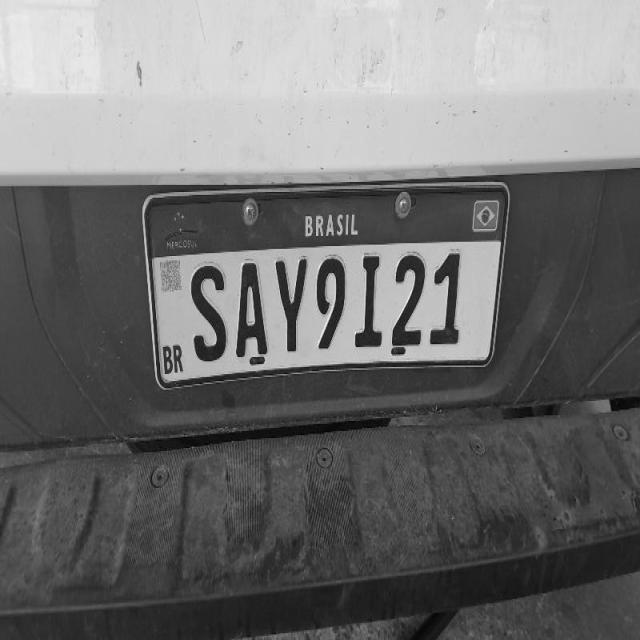placa_mercosul: (145, 182, 508, 387)
